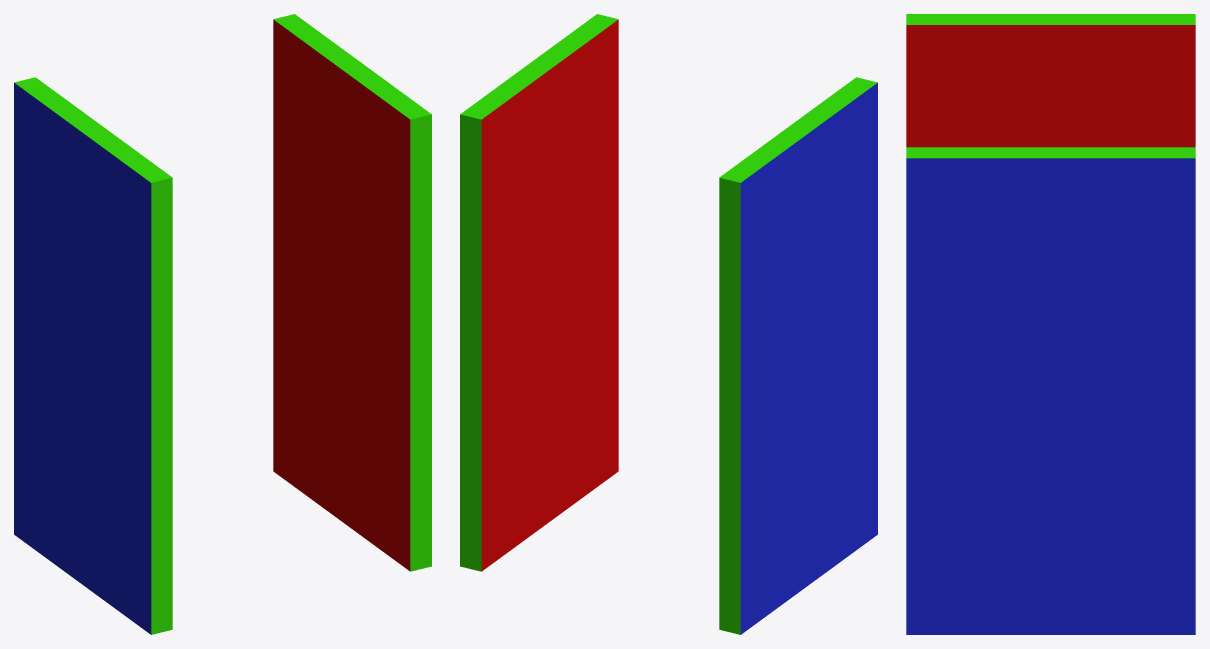
File: Mesh_wall_double_Depth.fbx
The picture shows the model from 3 angles, left to right: view 1: azimuth 30°, elevation 25°; view 2: azimuth 150°, elevation 25°; view 3: azimuth 270°, elevation 25°; orthographic projection. The views are drawn at different scales.
Visible parts, largest first — view 1: mesh_wall_corridor; view 2: mesh_wall_corridor; view 3: mesh_wall_corridor.
Boxes of the visible parts, x1=… form: mesh_wall_corridor: x1=14, y1=14, x2=431, y2=634; mesh_wall_corridor: x1=460, y1=14, x2=877, y2=634; mesh_wall_corridor: x1=906, y1=14, x2=1195, y2=634.
Bounding box in the file's own units: 2.11 × 3.25 × 1.79.
